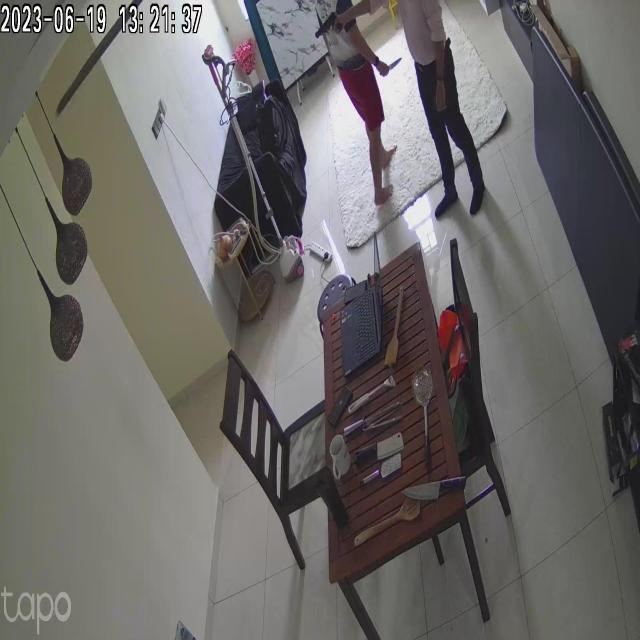Gun: (307, 11, 355, 49)
Knife: (399, 462, 470, 507), (375, 49, 407, 85)
